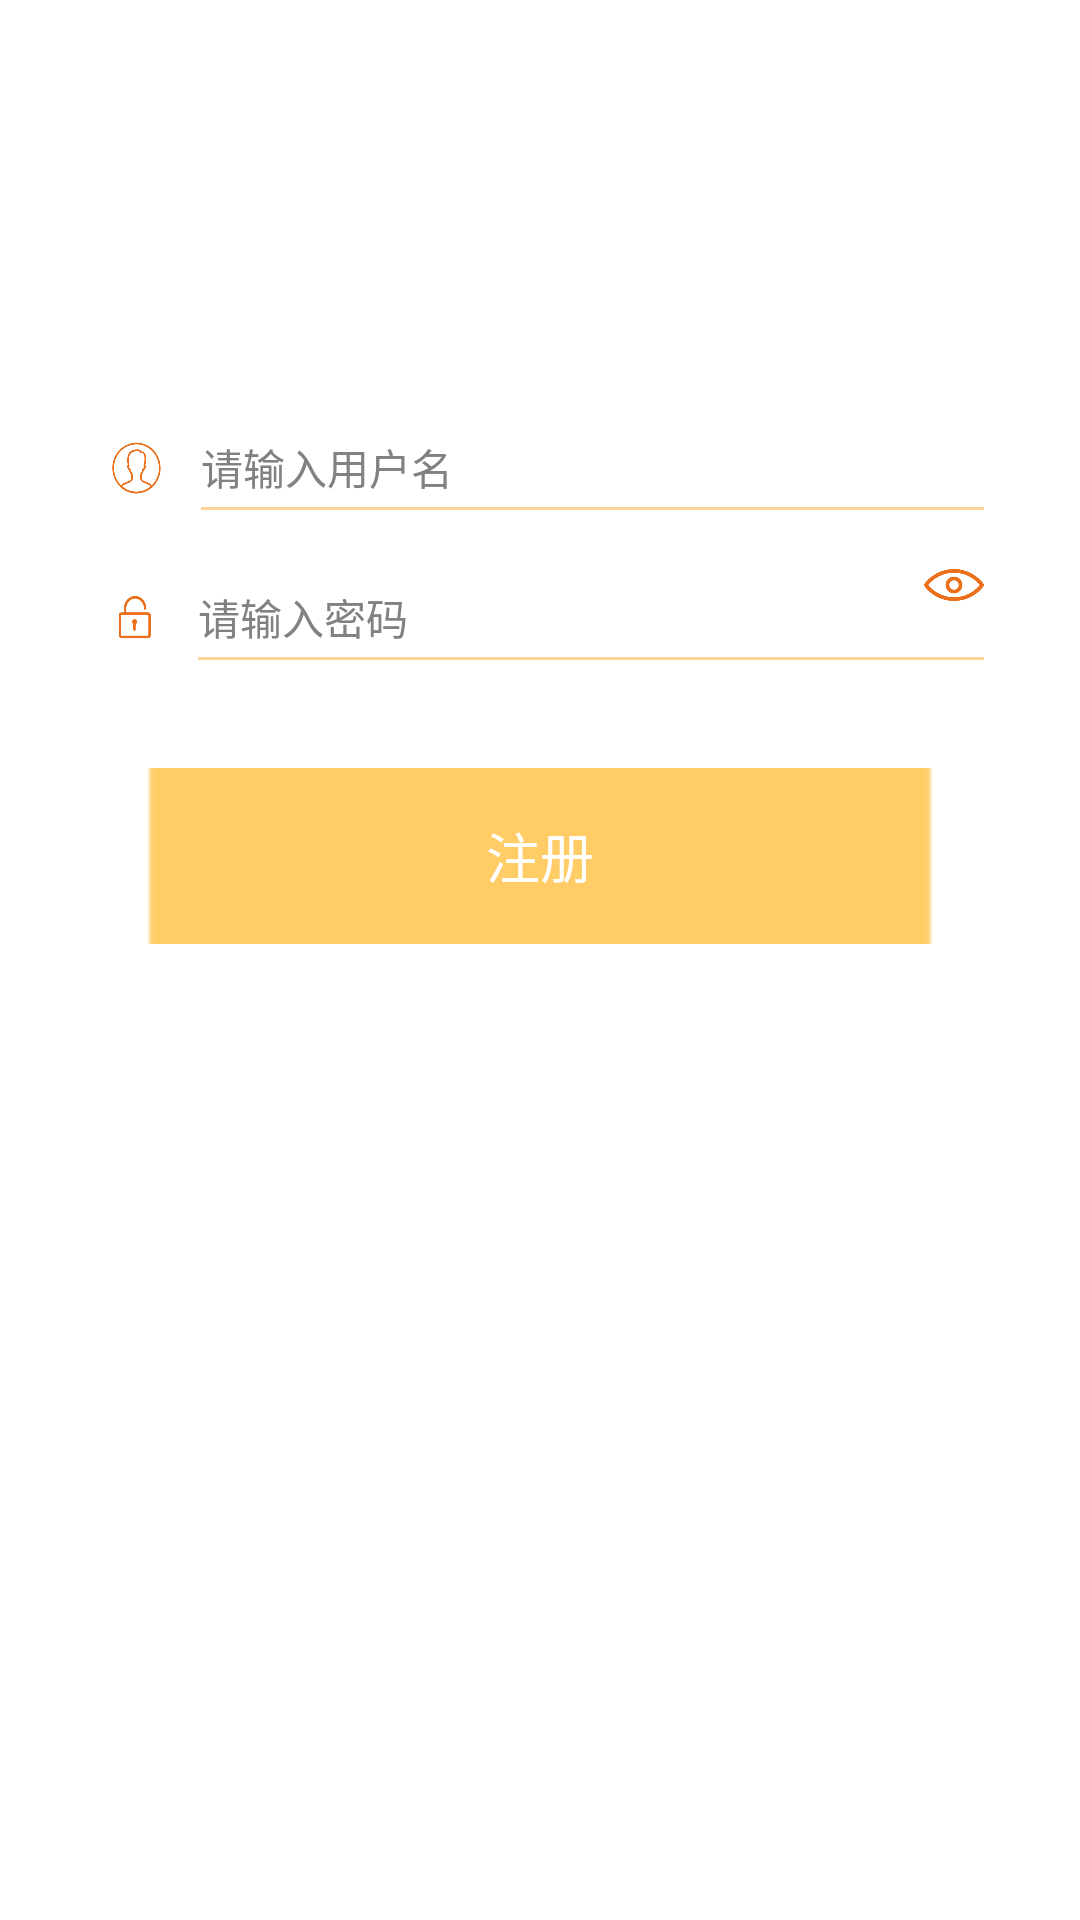

Point at icon controls on the screen. Image size 1080w x 1920h, points as point (x, y).
eye: point (954, 585)
password: point (135, 617)
user: point (136, 468)
